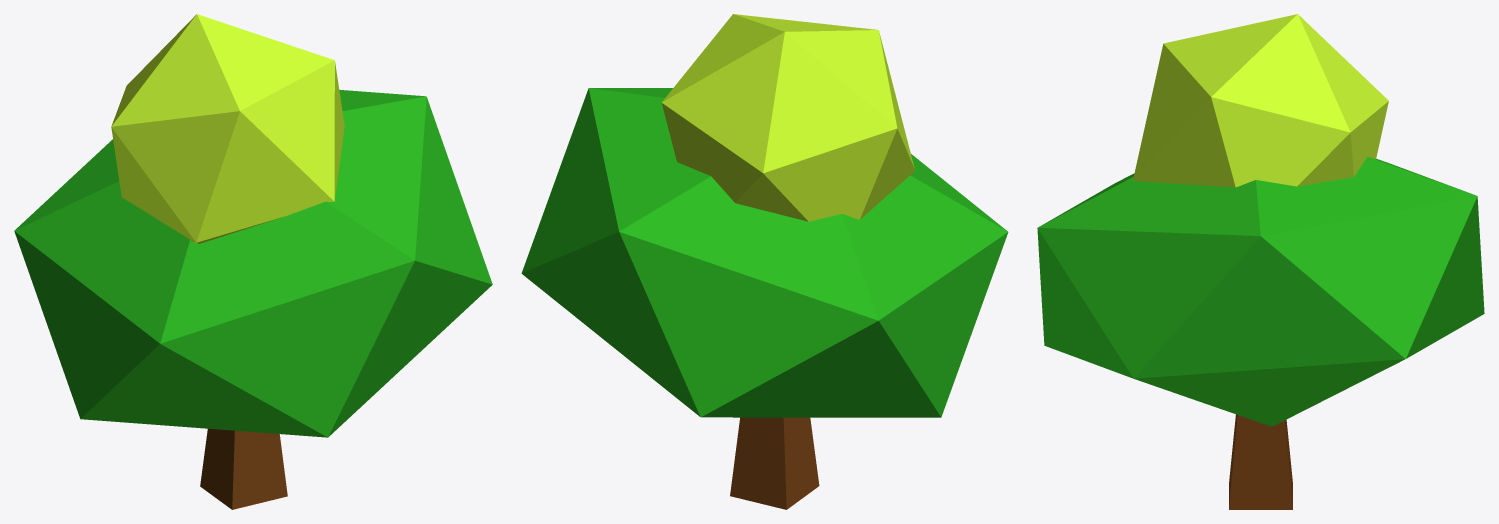
Rendered from Bush.fbx.
The picture shows the model from 3 angles, left to right: view 1: azimuth 30°, elevation 25°; view 2: azimuth 150°, elevation 25°; view 3: azimuth 270°, elevation 25°; orthographic projection. The views are drawn at different scales.
Visible parts, largest first — view 1: Leaves; view 2: Leaves; view 3: Leaves.
Part boxes in pixels (box(x1,y1,x2,y2)): Leaves: box(14, 14, 492, 509); Leaves: box(521, 14, 1008, 509); Leaves: box(1037, 14, 1484, 509).
Bounding box in the file's own units: 217 × 278 × 240.
